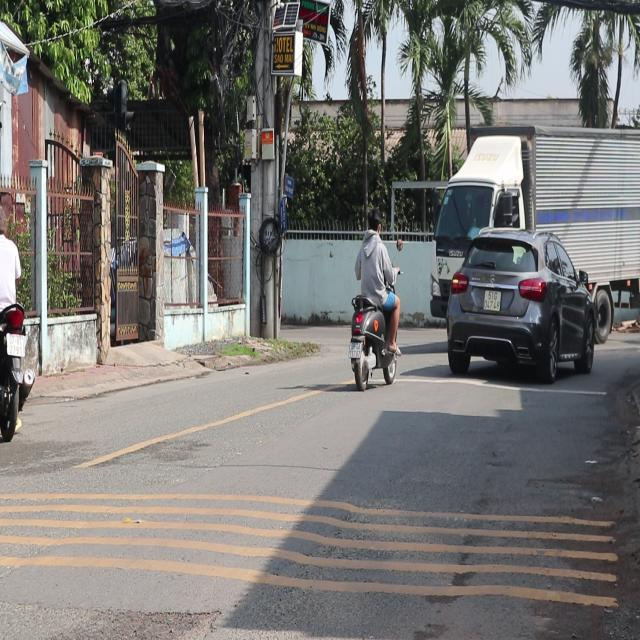licenseplate: (346, 207, 401, 389), (0, 190, 31, 441)
motorcyclist: (364, 207, 380, 234)
nohelmet: (7, 334, 25, 356), (349, 342, 361, 358)
